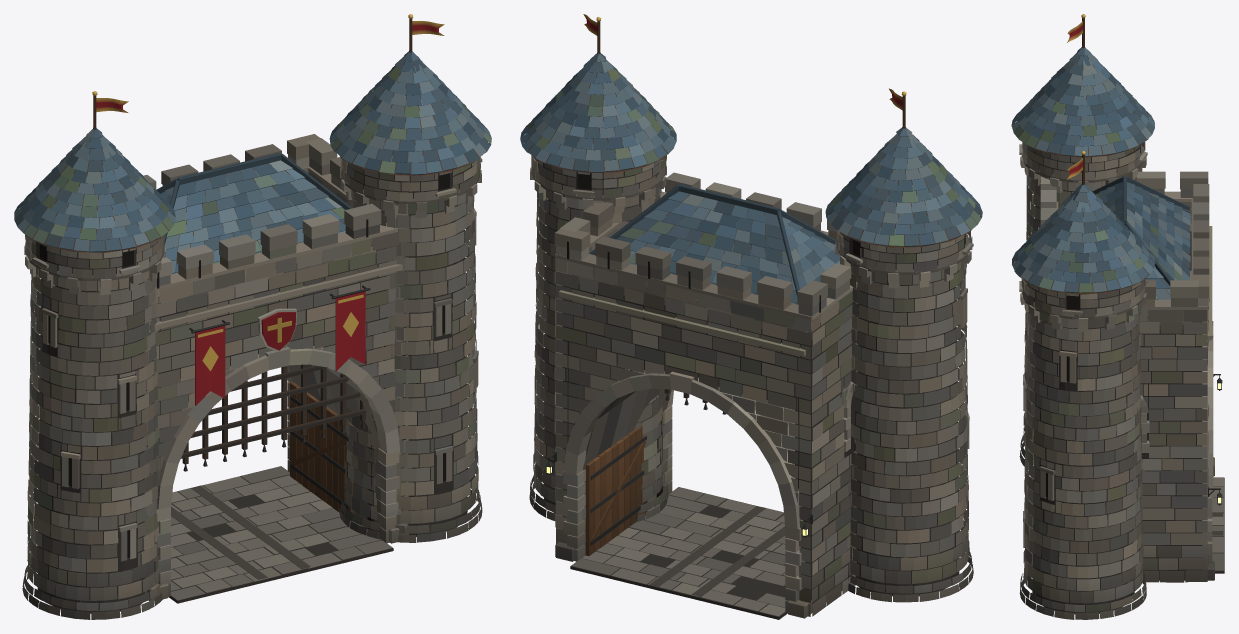
File: town_gate.glb
The picture shows the model from 3 angles, left to right: view 1: azimuth 30°, elevation 25°; view 2: azimuth 150°, elevation 25°; view 3: azimuth 270°, elevation 25°; orthographic projection. The views are drawn at different scales.
Parts seen in each view (by area): view 1: TownGate; view 2: TownGate; view 3: TownGate.
Boxes of the visible parts, bbox=[...] form: TownGate: bbox=[14, 14, 491, 619]; TownGate: bbox=[520, 14, 982, 619]; TownGate: bbox=[1011, 14, 1224, 619].
Bounding box in the file's own units: 16.9 × 17.73 × 7.71.
